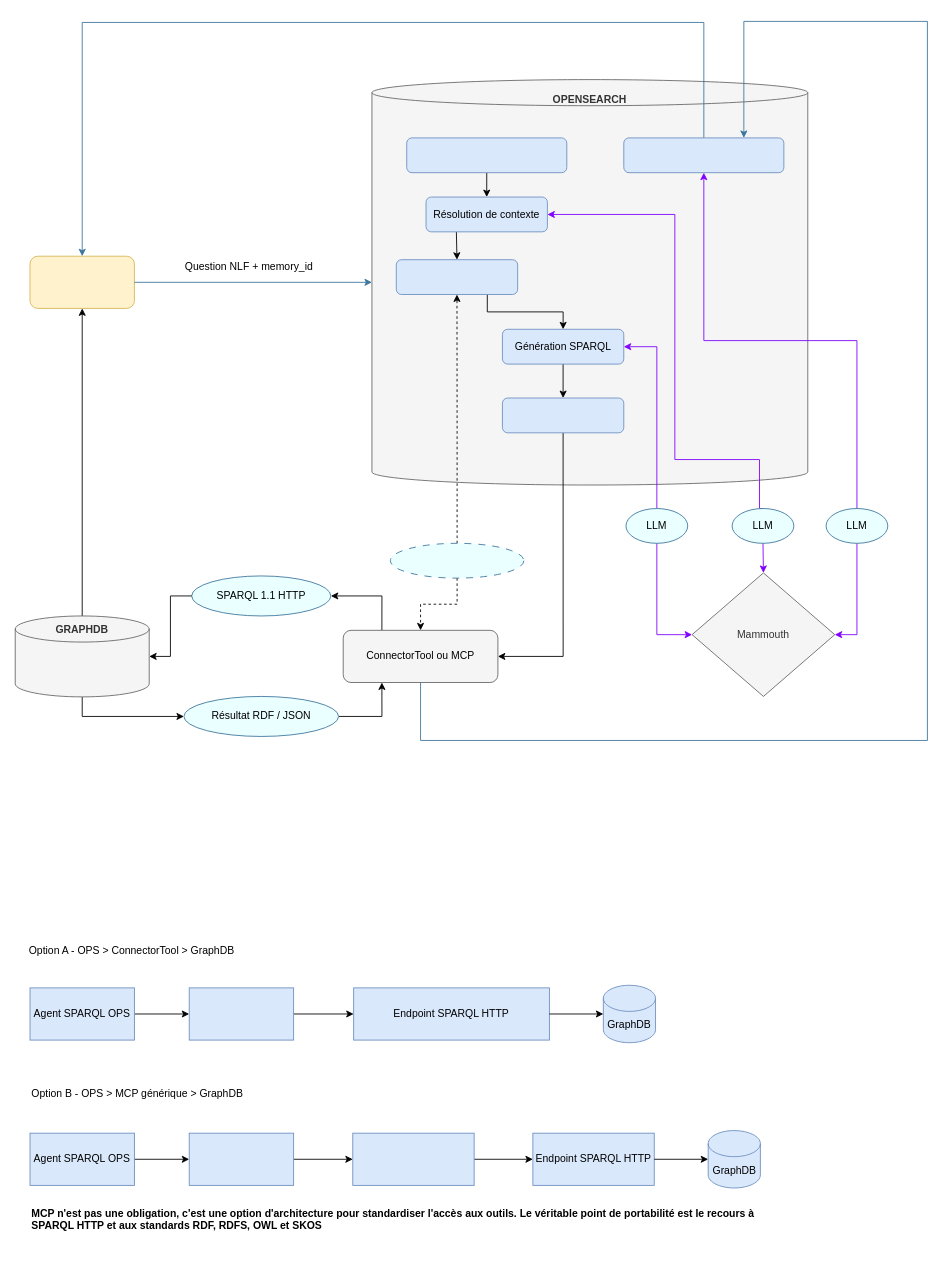
This 950x1274 diagram has some shape labels left out. The shapes that lost their labels are listed below. From the top down, each one's box as (x1, y1, x2, y2) in pixels, then its label:
(406, 137, 567, 173): Agent conversationnel SPARQL
(623, 137, 784, 173): Synthèse des résultats
(29, 255, 134, 308): UI RADAR
(395, 259, 518, 294): Découverte ontologie
(502, 397, 624, 433): Validation de la requête
(389, 542, 524, 578): Exploration du schéma
(188, 987, 294, 1040): ConnectorTool
(188, 1132, 294, 1185): Connecteur MCP
(352, 1132, 474, 1185): Serveur MCP SPARQL générique
